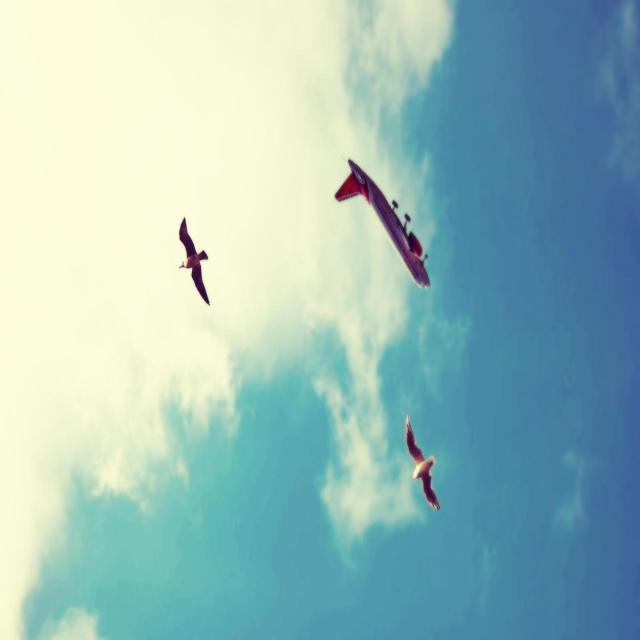airplane: (334, 156, 430, 290)
